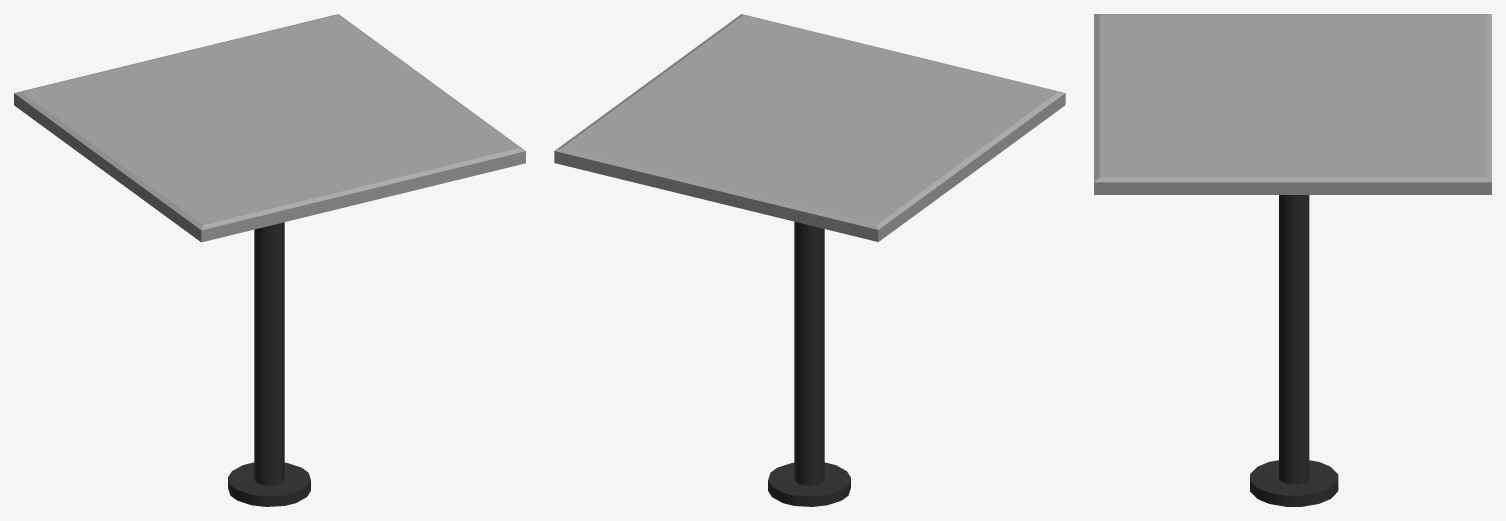
File: tabletransparent.fbx
3 renders of one model, left to right at view 1: azimuth 30°, elevation 25°; view 2: azimuth 150°, elevation 25°; view 3: azimuth 270°, elevation 25°, orthographic. The views are drawn at different scales.
Parts seen in each view (by area): view 1: glassoutertable, tablestand; view 2: glassoutertable, tablestand; view 3: glassoutertable, tablestand.
Part boxes in pixels (box(x1,y1,x2,y2)): glassoutertable: box(14, 14, 525, 242); tablestand: box(228, 222, 310, 506); glassoutertable: box(554, 14, 1065, 241); tablestand: box(768, 221, 850, 506); glassoutertable: box(1094, 14, 1491, 194); tablestand: box(1250, 195, 1338, 506).
Size of the model in its own units: 2.66 by 2.9 by 2.66.
Materials: 3 (1 with a texture image).
